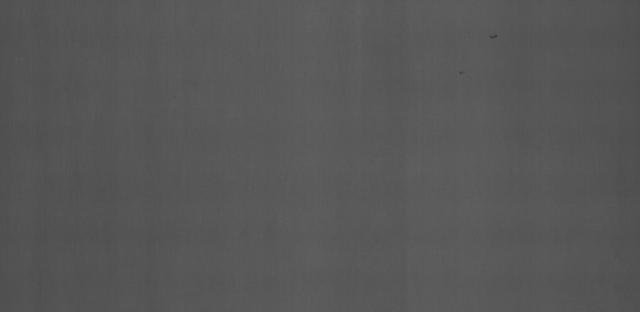inclusion: (453, 57, 472, 82), (487, 19, 505, 42)
